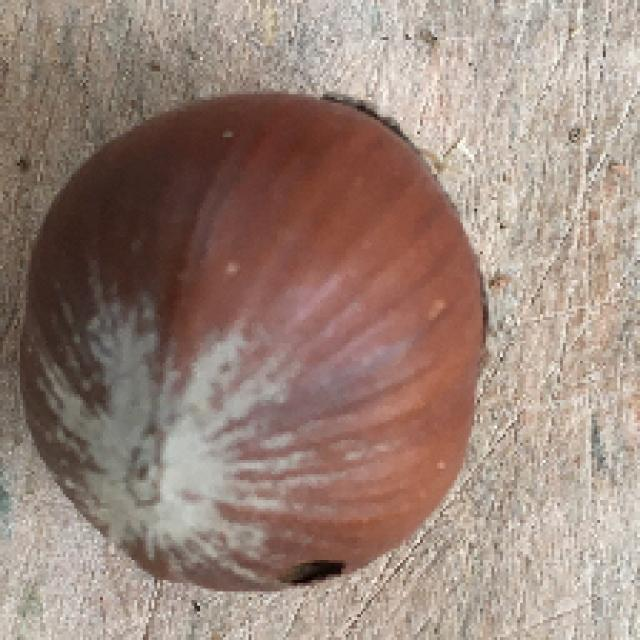damagedHazelnut: (11, 78, 495, 604)
